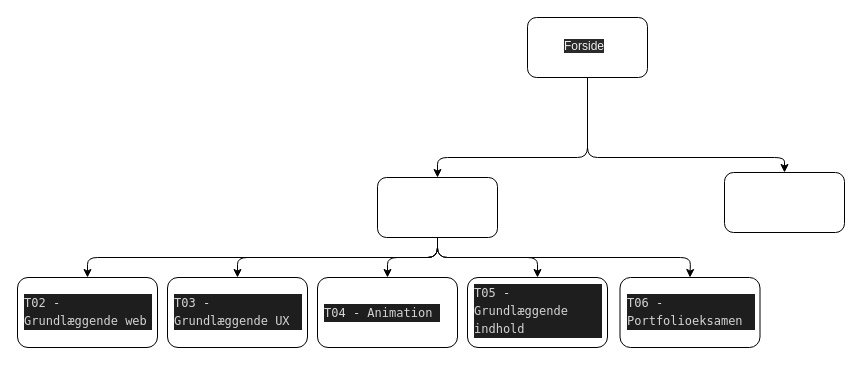
Image size: 862x365. Some labels were removed from this diagram. Each missing label, with the centre of its shape:
Om mig/CV: (784,202)
Portfolio: (437,207)
